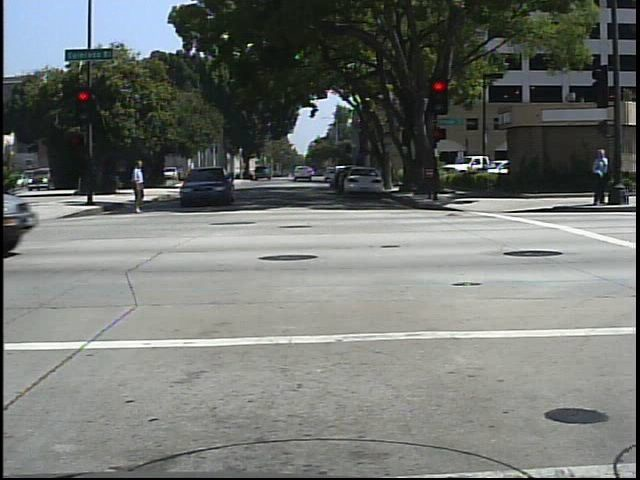person: (123, 156, 154, 216), (590, 142, 615, 209)
